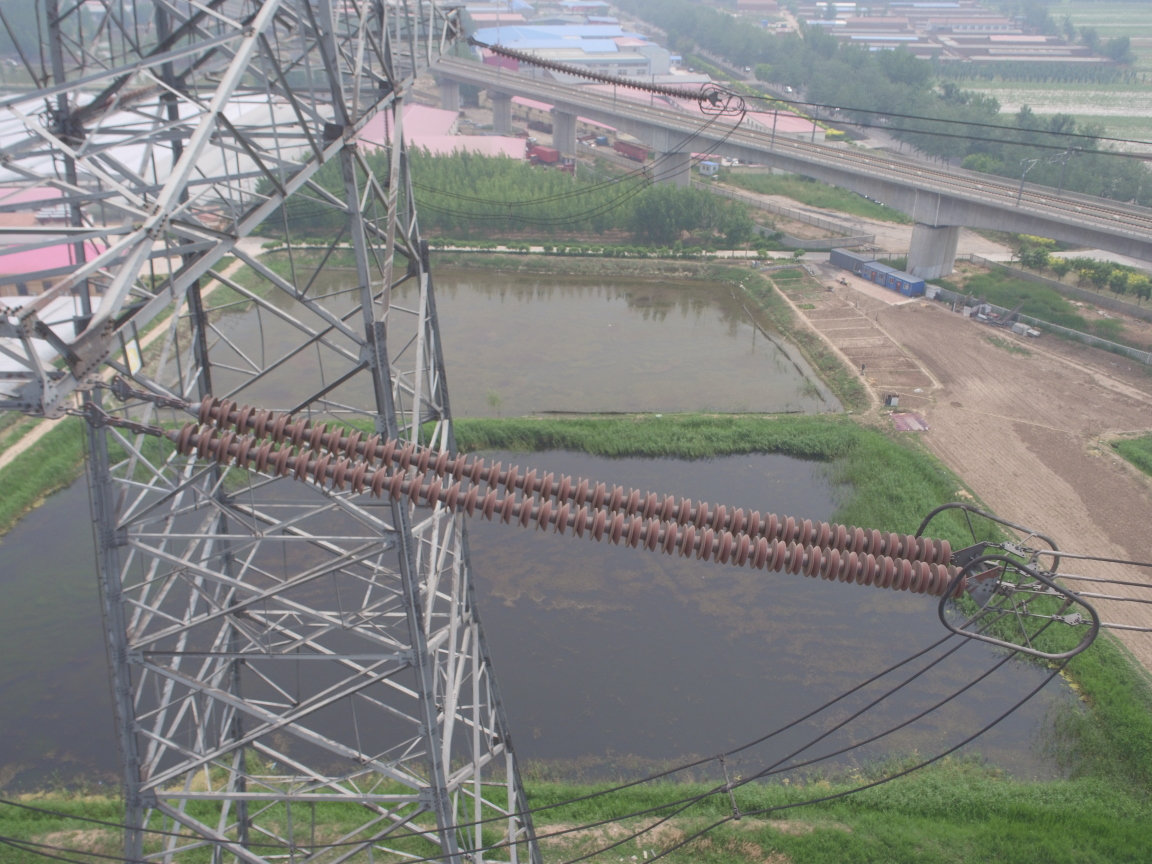insulator: (136, 390, 980, 602), (472, 40, 716, 102)
